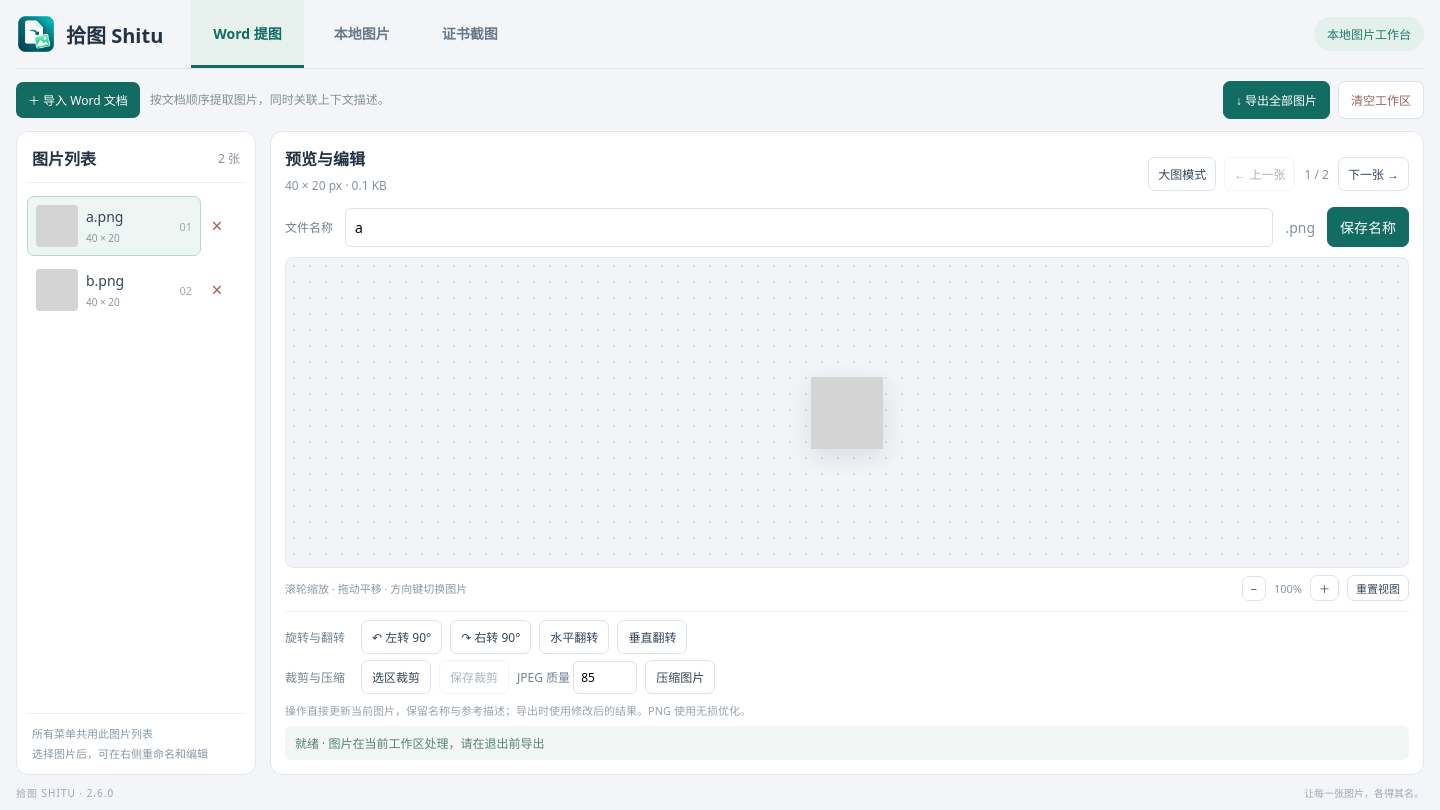
Test: workspace actions › retains images and shows a retryable error if clear fails
The image size is (1440, 810).
Click the button "清空工作区".
click(1381, 100)  # box [1338,81,1424,119]
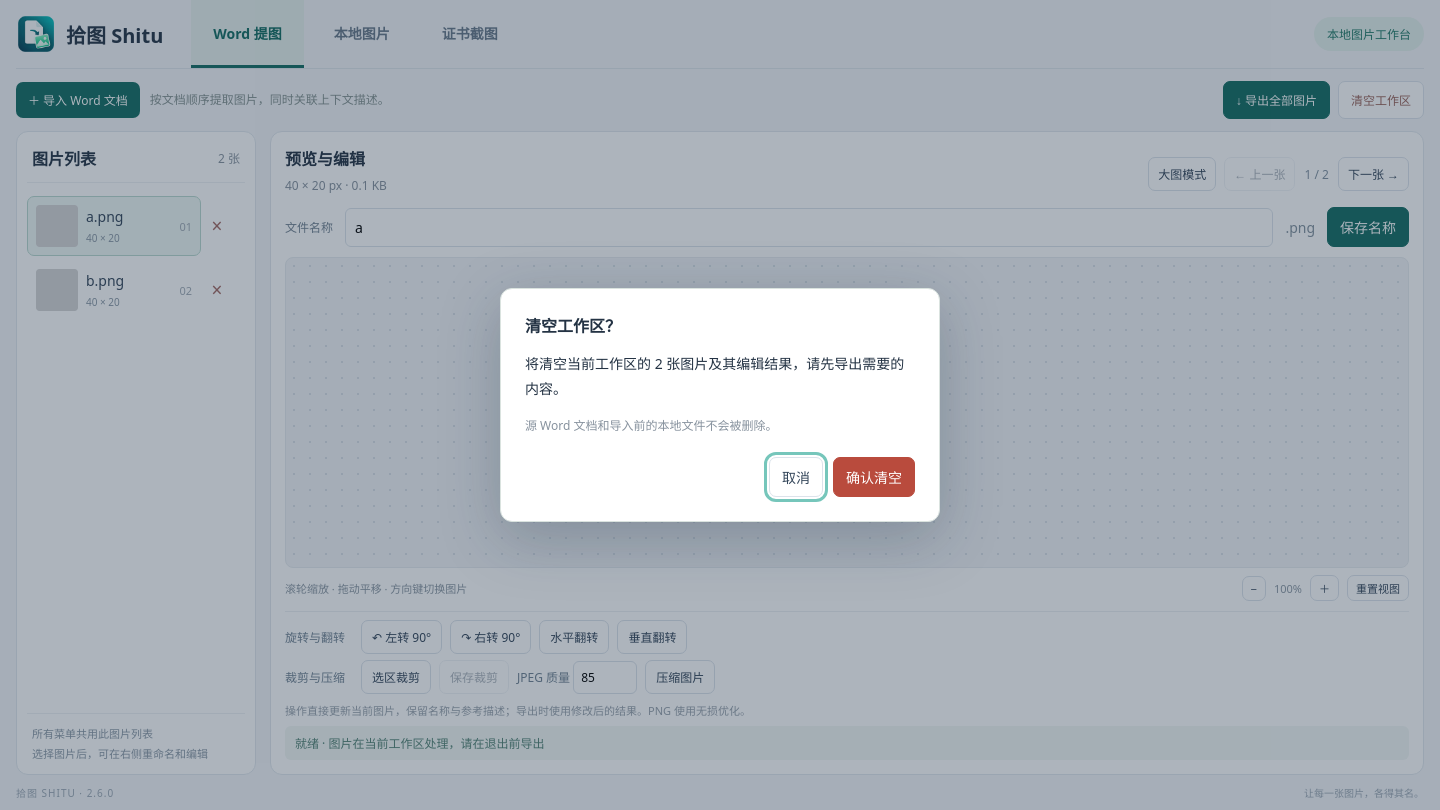
Click the button "确认清空".
click(874, 477)  # box [833,457,915,497]
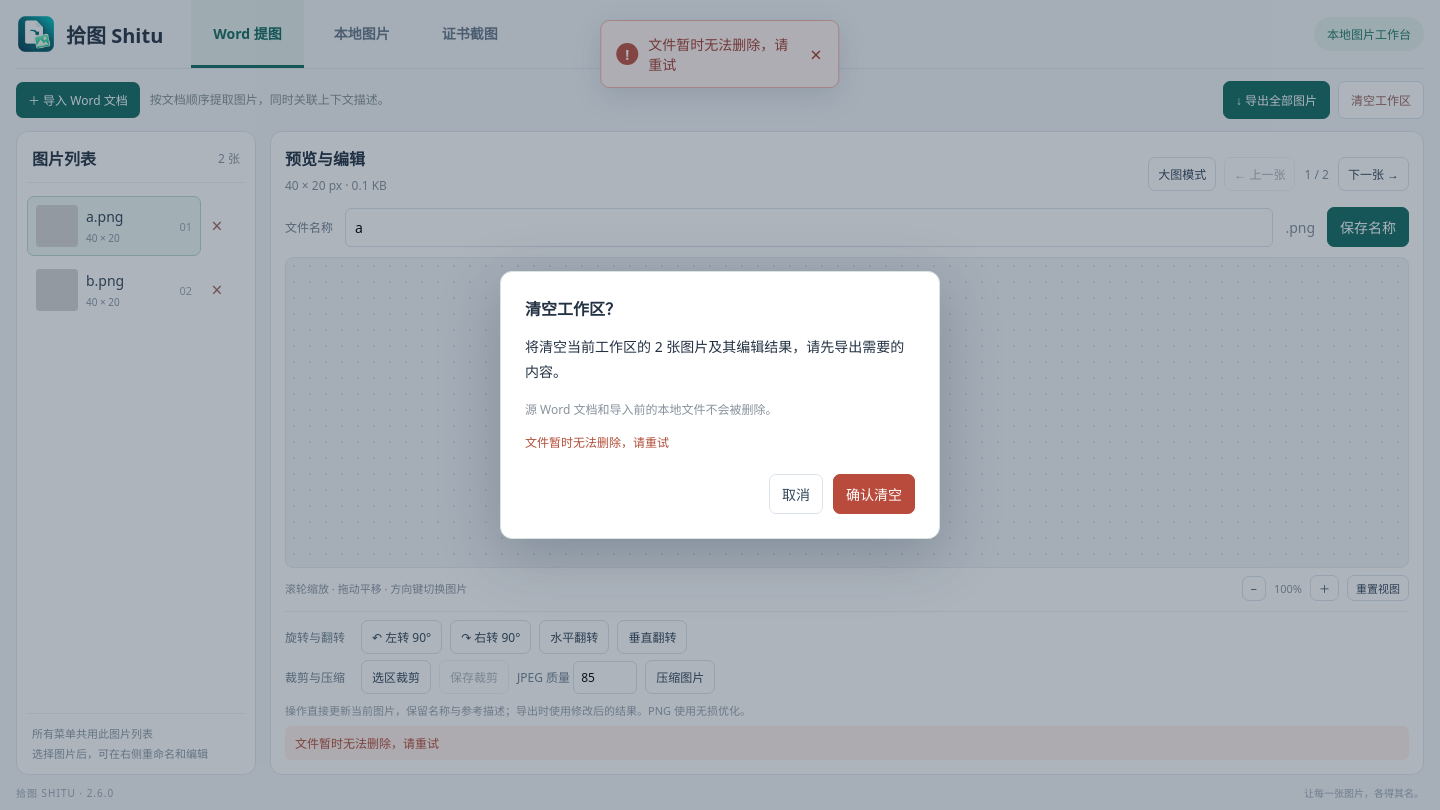
Expected: the number of elements with class "image-row" is 2, [27,196,230,256]; [27,260,230,320]
Now the message with class "removal-error" shows "请重试", box [525,434,669,451]
Now the message with class "error" shows "请重试", box [648,35,788,74]
Click the button "确认清空".
click(874, 494)  # box [833,474,915,514]
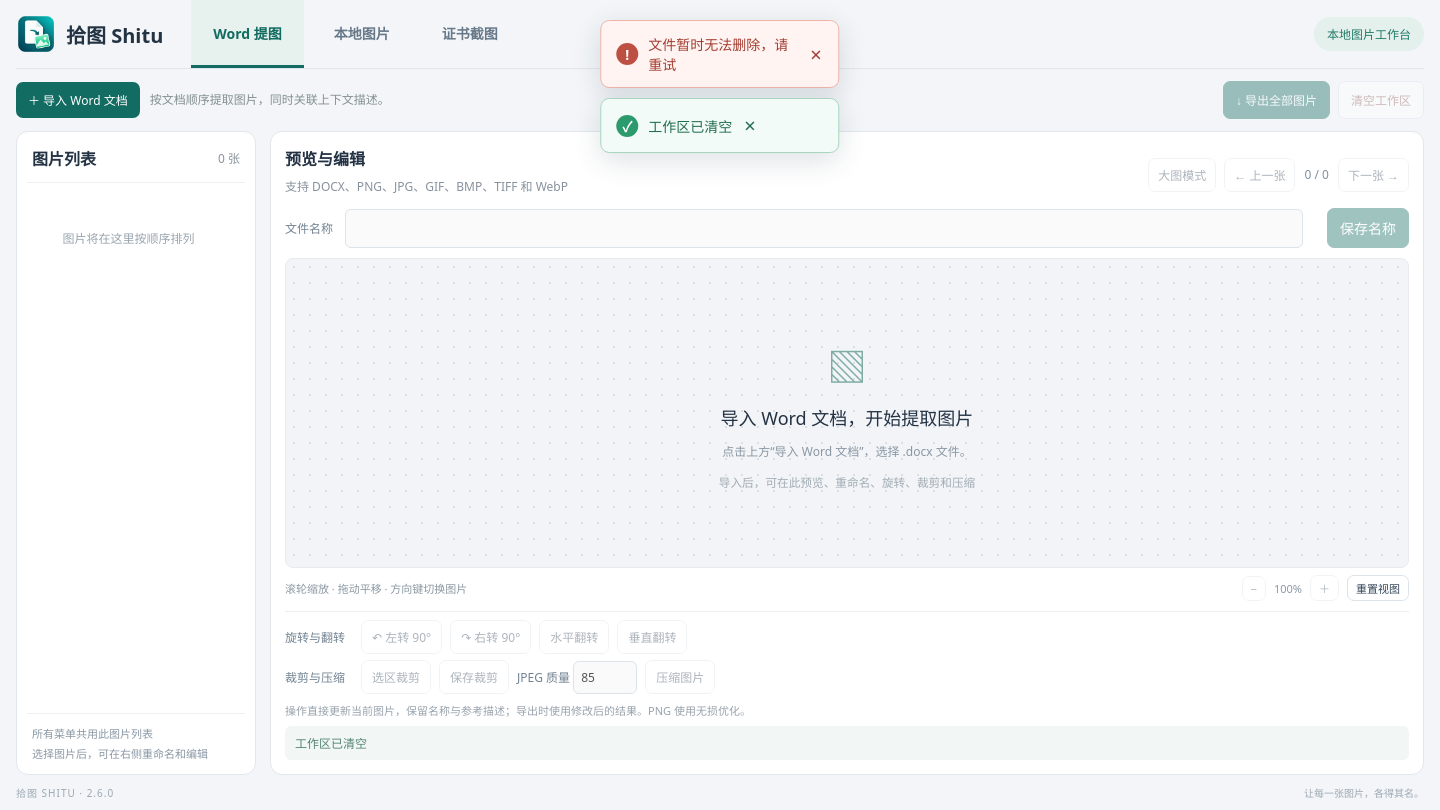
Now no elements with class "image-row" are shown
